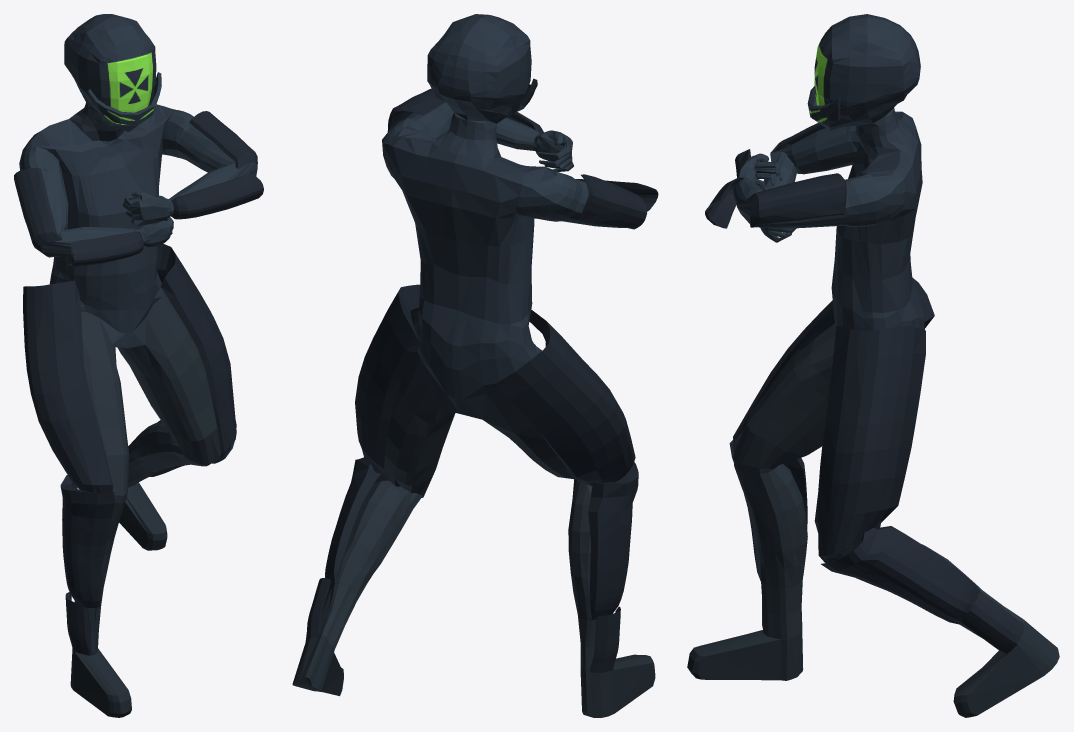
File: Bastion_WB_000022.obj
3 renders of one model, left to right at view 1: azimuth 30°, elevation 25°; view 2: azimuth 150°, elevation 25°; view 3: azimuth 270°, elevation 25°, orthographic. The views are drawn at different scales.
Parts seen in each view (by area): view 1: Cube.002; view 2: Cube.002; view 3: Cube.002.
Boxes of the visible parts, x1=… form: Cube.002: x1=14, y1=14, x2=263, y2=717; Cube.002: x1=292, y1=14, x2=658, y2=717; Cube.002: x1=687, y1=14, x2=1059, y2=717.
Size of the model in its own units: 1.41 by 3.66 by 1.78.
